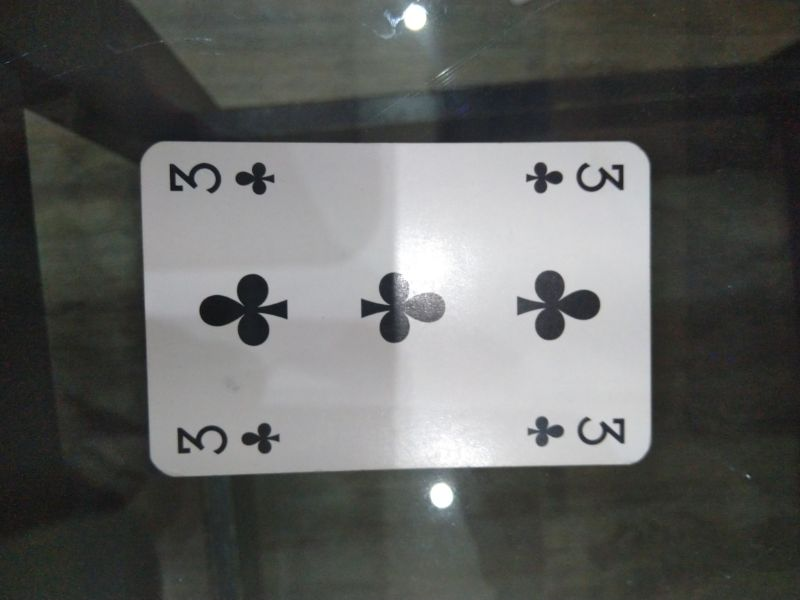3c: (160, 151, 284, 199), (172, 418, 289, 463), (520, 411, 633, 453), (522, 155, 630, 198)
